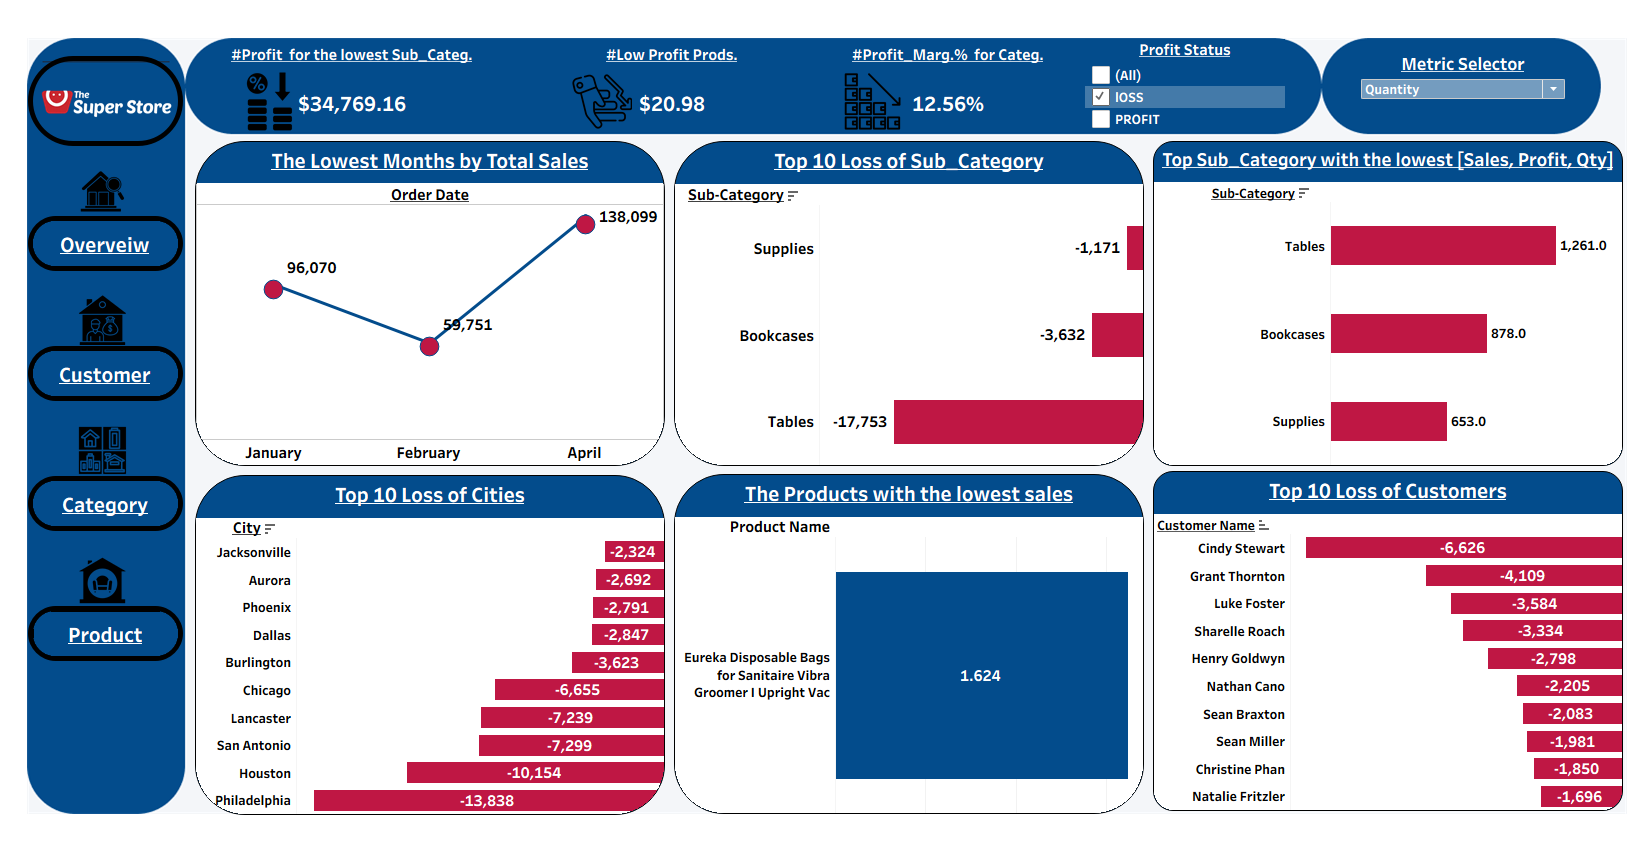

Layout of this report page (visuals, bound fields, positions):
{"tool":"tableau","page":{"name":"Losses_Dashboard","canvas":[1650,800],"ordinal":2},"visuals":[{"type":"image","param":"E:/BI and Data Analysis Course/Tableau/Day_2/Logo/Untitled.png","box":[8,8,1634,784]},{"type":"filter","title":"Top Sub_Category with the lowest [Sales, Profit, Qty]","param":"[federated.1gjnplu0a9ecpf163y1ue074a4vp].[usr:Calculation_0566570577006593:nk]","box":[1083,13,200,91]},{"type":"worksheet","title":"#Profit  for the lowest Sub_Categ.","mark":"Automatic","box":[220,14,260,90]},{"type":"worksheet","title":"#Low Profit Prods.","mark":"Automatic","box":[540,14,260,90]},{"type":"worksheet","title":"#Profit_Marg.%  for Categ.","mark":"Automatic","box":[816,14,260,90]},{"type":"parameter","param":"[Parameters].[Parameter 1]","box":[1356,26,210,68]},{"type":"image","param":"E:/BI and Data Analysis Course/Tableau/Day_2/Logo/Copilot_20260921_050017-remove","box":[26,30,155,90]},{"type":"image","param":"E:/BI and Data Analysis Course/Tableau/Day_2/Logo/Low profit.png","box":[220,45,95,60]},{"type":"image","param":"E:/BI and Data Analysis Course/Tableau/Day_2/Logo/sales.png","box":[570,45,95,60]},{"type":"image","param":"E:/BI and Data Analysis Course/Tableau/Day_2/Logo/quantity - Copy.png","box":[840,45,95,60]},{"type":"worksheet","title":"The Lowest Months by Total Sales","mark":"Automatic","rows":["Sales","Sales"],"cols":["Order Date"],"box":[193,115,470,325]},{"type":"worksheet","title":"Top 10 Loss of Sub_Category","mark":"Automatic","rows":["Sub-Category"],"cols":["Profit"],"box":[672,115,470,325]},{"type":"worksheet","title":"Top Sub_Category with the lowest [Sales, Profit, Qty]","mark":"Automatic","rows":["Sub-Category"],"cols":["Calculation_0566570587996167"],"box":[1151,115,470,325]},{"type":"image","param":"C:/Users/ITLGEN~1/AppData/Local/Temp/TableauTemp/0eeszoc1kzk8s31fx1ncz137cxpl/Sh","box":[50,140,100,50]},{"type":"dashboard-object","box":[26,190,155,55]},{"type":"image","param":"E:/BI and Data Analysis Course/Tableau/Day_2/Logo/Customer DB.png","box":[50,269,100,50]},{"type":"dashboard-object","box":[26,320,155,55]},{"type":"image","param":"E:/BI and Data Analysis Course/Tableau/Day_2/Logo/Category DB.png","box":[50,399,100,50]},{"type":"worksheet","title":"Top 10 Loss of Customers","mark":"Automatic","rows":["Customer Name"],"cols":["Profit"],"box":[1151,445,470,340]},{"type":"worksheet","title":"Top 10 Products with the lowest sales","mark":"Automatic","rows":["Product Name"],"cols":["Sales"],"box":[672,448,470,340]},{"type":"worksheet","title":"Top 10 Loss of Cities","mark":"Automatic","rows":["City"],"cols":["Profit"],"box":[193,449,470,340]},{"type":"dashboard-object","box":[26,450,155,55]},{"type":"image","param":"E:/BI and Data Analysis Course/Tableau/Day_2/Logo/Product DB.png","box":[50,529,100,50]},{"type":"dashboard-object","box":[26,580,155,55]}]}

Visuals, with their boxes in screenshot pixels (x1, y1, x2, y2):
image: bbox=(8, 34, 1620, 807)
"Top Sub_Category with the lowest [Sales, Profit, Qty]" filter: bbox=(1069, 39, 1266, 128)
"#Profit  for the lowest Sub_Categ." worksheet: bbox=(217, 40, 474, 128)
"#Low Profit Prods." worksheet: bbox=(533, 40, 789, 128)
"#Profit_Marg.%  for Categ." worksheet: bbox=(805, 40, 1062, 128)
parameter: bbox=(1338, 51, 1545, 119)
image: bbox=(26, 55, 179, 144)
image: bbox=(217, 70, 311, 129)
image: bbox=(562, 70, 656, 129)
image: bbox=(829, 70, 923, 129)
"The Lowest Months by Total Sales" worksheet: bbox=(190, 139, 654, 460)
"Top 10 Loss of Sub_Category" worksheet: bbox=(663, 139, 1127, 460)
"Top Sub_Category with the lowest [Sales, Profit, Qty]" worksheet: bbox=(1136, 139, 1600, 460)
image: bbox=(49, 164, 148, 213)
dashboard-object: bbox=(26, 213, 179, 268)
image: bbox=(49, 291, 148, 341)
dashboard-object: bbox=(26, 342, 179, 396)
image: bbox=(49, 420, 148, 469)
"Top 10 Loss of Customers" worksheet: bbox=(1136, 465, 1600, 800)
"Top 10 Products with the lowest sales" worksheet: bbox=(663, 468, 1127, 803)
"Top 10 Loss of Cities" worksheet: bbox=(190, 469, 654, 804)
dashboard-object: bbox=(26, 470, 179, 524)
image: bbox=(49, 548, 148, 597)
dashboard-object: bbox=(26, 598, 179, 652)
